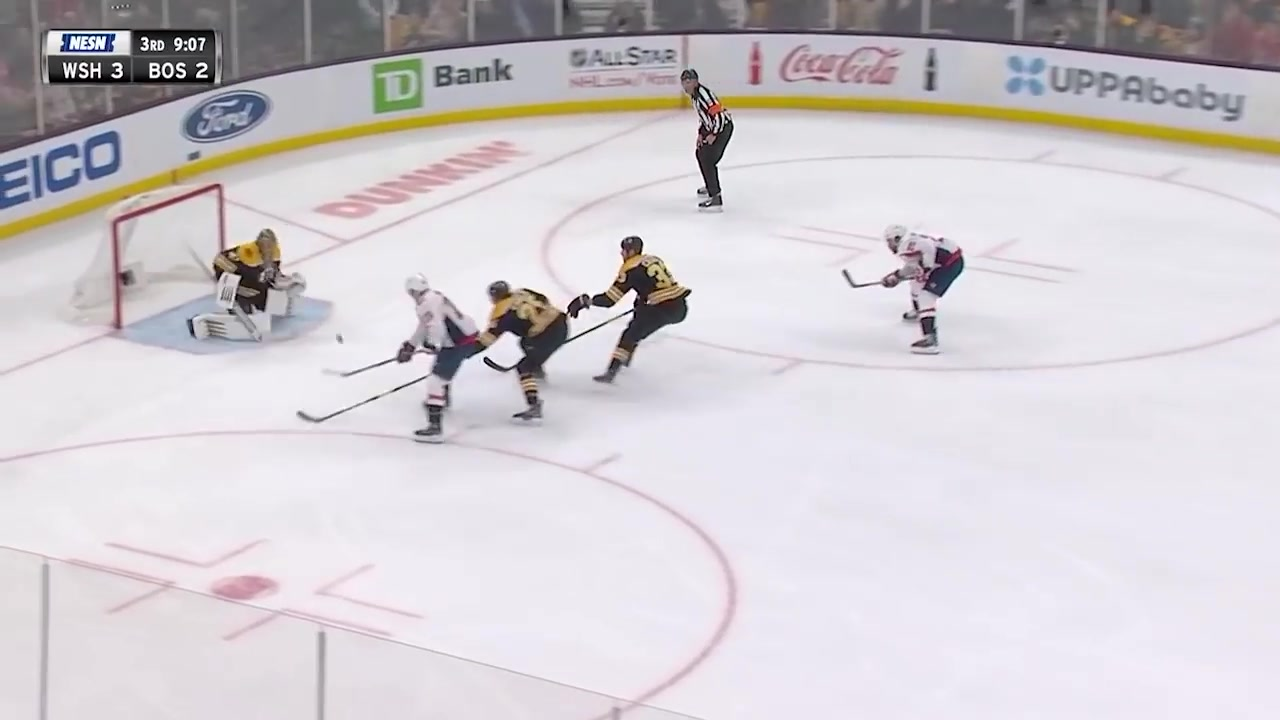geico: (1, 110, 137, 220)
